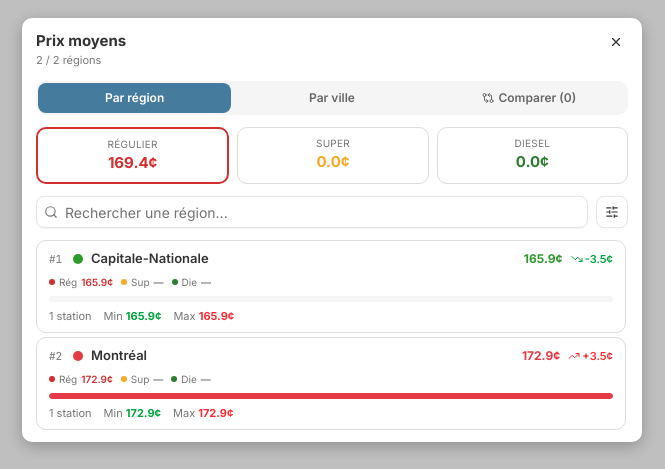
Test: PricePanel › permet de retirer un item du compare set via le bouton X dans le tableau
This screenshot has width=665, height=469.
# Sélectionner les deux régions
Click the text "Capitale-Nationale": (331, 287) [36,240,626,333]
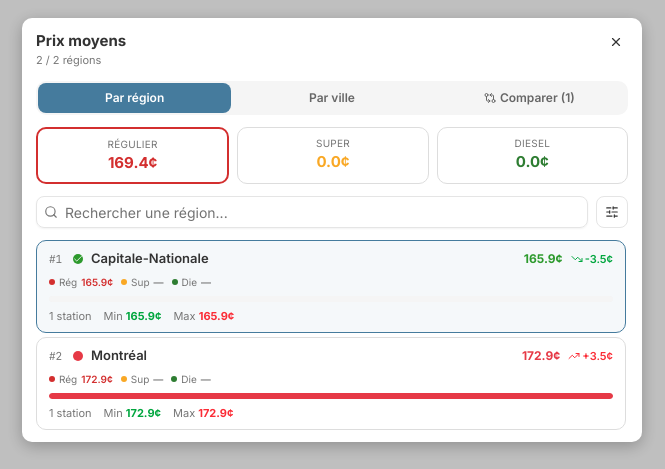
Click the text "Montréal": (331, 384) [36,337,626,430]
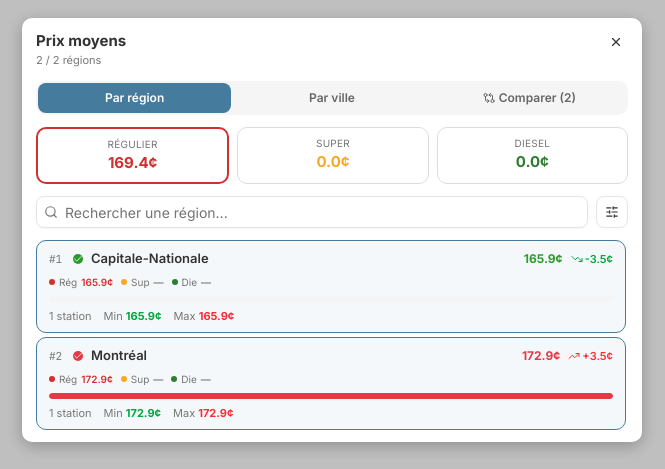
# Aller en vue comparer
Click the button "Comparer (2)": (529, 98) [433,83,626,113]
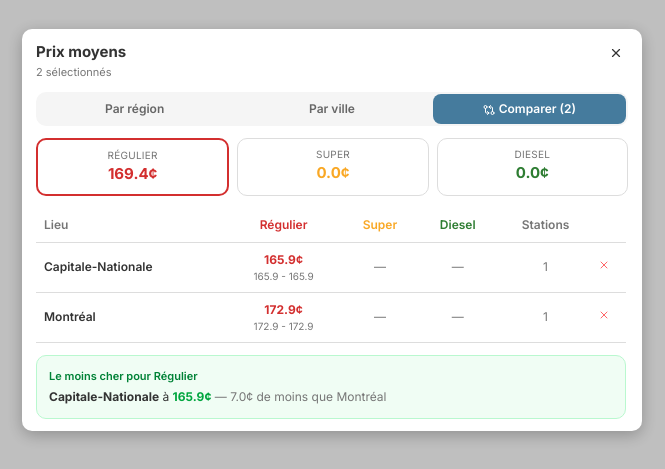
Now the text "2 sélectionnés" is shown, box [36,64,112,78]
Click the 6th button: (604, 265) [598,259,610,271]
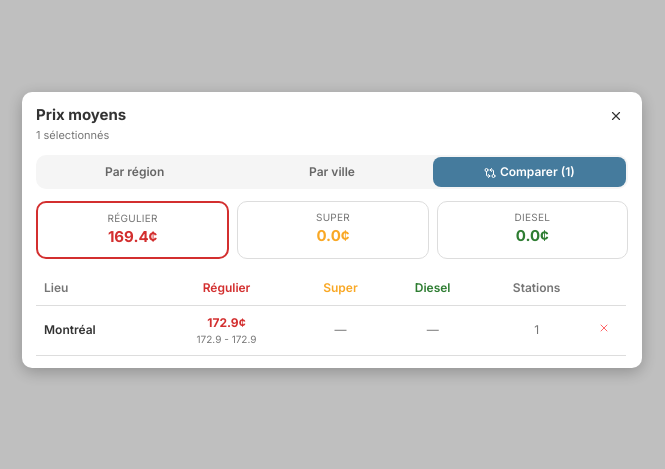
Now the text "1 sélectionnés" is shown, box [36,128,109,142]
